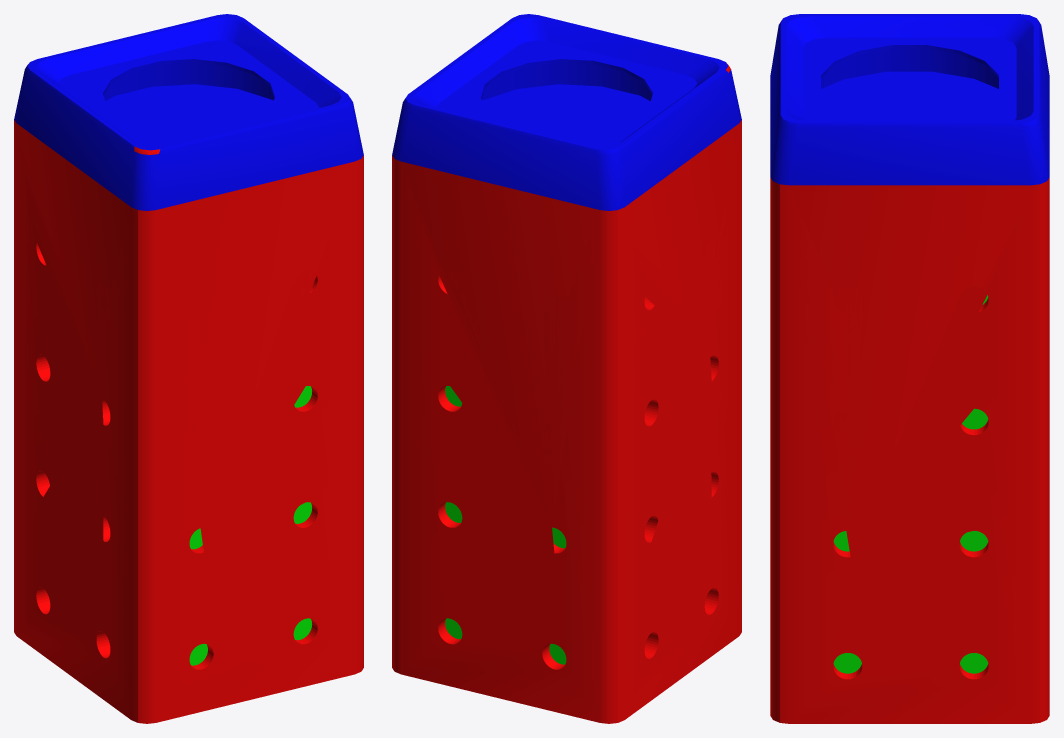
The model's file is Trashcan.fbx.
3 views of the same model, side by side, from view 1: azimuth 30°, elevation 25°; view 2: azimuth 150°, elevation 25°; view 3: azimuth 270°, elevation 25° (orthographic). The views are drawn at different scales.
Visible parts, largest first — view 1: Cube; view 2: Cube; view 3: Cube.
Part boxes in pixels (<box>): Cube: <box>14,14,363,723</box>; Cube: <box>392,14,741,723</box>; Cube: <box>770,14,1049,723</box>.
Bounding box in the file's own units: 38.18 × 38.18 × 89.99.
